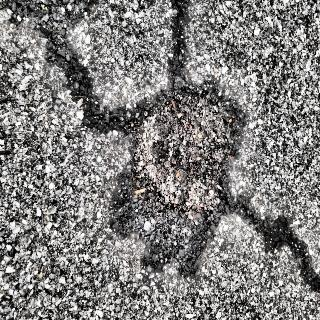crack: (1, 0, 320, 306)
